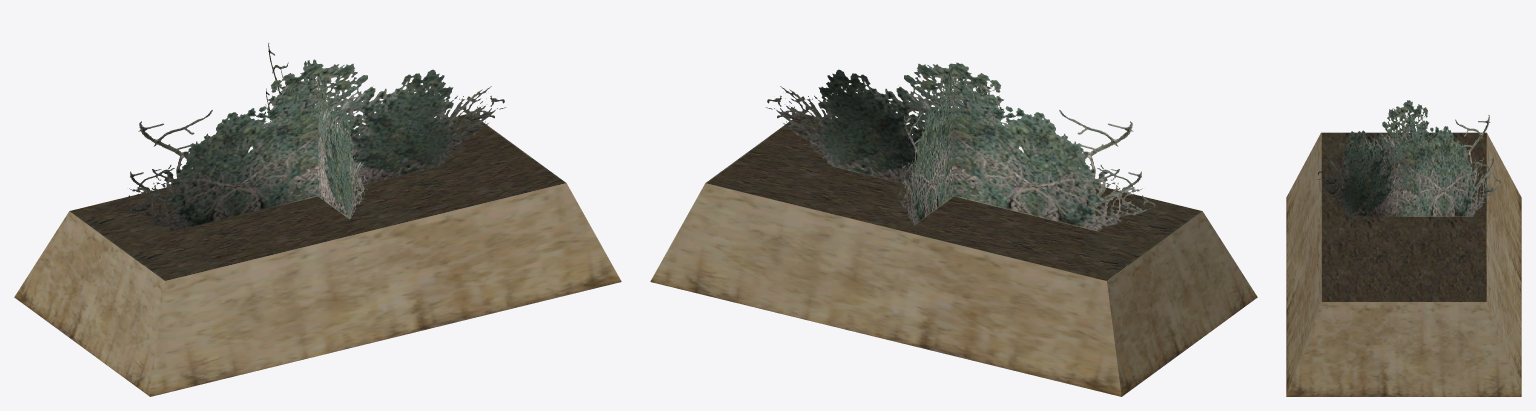
Rendered from thm_tato_orchard_s02_l2.fbx.
3 renders of one model, left to right at view 1: azimuth 30°, elevation 25°; view 2: azimuth 150°, elevation 25°; view 3: azimuth 270°, elevation 25°, orthographic. The views are drawn at different scales.
Visible parts, largest first — view 1: mesh_node; view 2: mesh_node; view 3: mesh_node.
Part boxes in pixels (box(x1,y1,x2,y2)): mesh_node: box(14, 43, 621, 396); mesh_node: box(650, 62, 1257, 396); mesh_node: box(1286, 100, 1521, 396).
Size of the model in its own units: 8 by 3.71 by 4.
